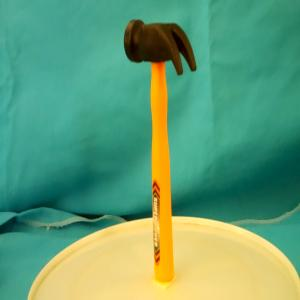martelo: (123, 18, 196, 284)
